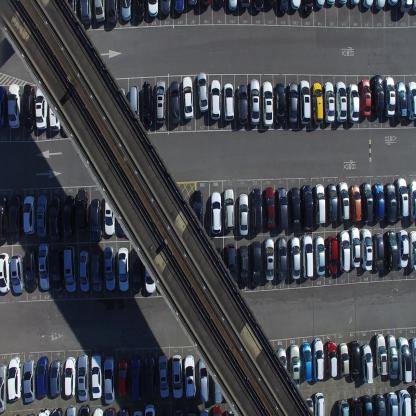car: (396, 336, 413, 384), (7, 356, 22, 402), (64, 245, 78, 293), (298, 79, 312, 126), (301, 233, 315, 279), (48, 84, 61, 133), (22, 84, 35, 133), (394, 176, 409, 218), (38, 243, 51, 291), (9, 194, 23, 238), (7, 83, 20, 130), (49, 195, 62, 242), (385, 333, 398, 380), (374, 332, 388, 375), (144, 244, 156, 294), (117, 246, 130, 292), (24, 248, 38, 290), (103, 355, 115, 404), (311, 81, 324, 126), (168, 80, 181, 125), (141, 80, 153, 128), (77, 354, 89, 402), (10, 254, 24, 295), (313, 182, 326, 226), (36, 194, 49, 238), (51, 248, 64, 292), (157, 354, 170, 398), (36, 354, 49, 398), (262, 80, 274, 127), (104, 244, 116, 291), (76, 186, 88, 233), (211, 356, 223, 403), (184, 353, 196, 400), (171, 353, 183, 400), (144, 354, 156, 401), (236, 83, 249, 126), (249, 78, 261, 124), (274, 81, 286, 127), (276, 236, 288, 282), (250, 241, 262, 287), (103, 191, 115, 237), (90, 353, 102, 399), (347, 82, 360, 124), (371, 74, 384, 116), (383, 181, 396, 223), (360, 228, 373, 270), (182, 75, 194, 120), (35, 85, 47, 130), (338, 229, 350, 274), (289, 235, 301, 280), (250, 188, 262, 233), (210, 190, 222, 235), (118, 192, 130, 237), (312, 337, 324, 382), (23, 359, 35, 404), (196, 71, 209, 112), (396, 228, 409, 269), (337, 181, 350, 222), (323, 80, 335, 124), (335, 79, 347, 123), (128, 85, 140, 129), (386, 228, 398, 272), (302, 183, 313, 231), (289, 186, 301, 230), (225, 243, 237, 287), (192, 189, 203, 237), (90, 198, 102, 242), (78, 249, 90, 293), (63, 194, 75, 238), (275, 346, 287, 390), (64, 356, 76, 400), (372, 182, 385, 222), (23, 195, 36, 235), (360, 344, 373, 384), (131, 356, 142, 403), (384, 75, 396, 118), (361, 180, 373, 223), (264, 186, 276, 229), (223, 187, 235, 230), (210, 245, 222, 288), (132, 246, 143, 292), (198, 357, 209, 403), (114, 86, 126, 128), (326, 234, 338, 276), (314, 235, 326, 276), (91, 251, 103, 292), (287, 81, 298, 125), (277, 187, 288, 231), (238, 244, 249, 288), (289, 344, 300, 388), (359, 77, 371, 117), (350, 183, 362, 223), (117, 358, 129, 398), (50, 358, 62, 398), (210, 78, 221, 121), (373, 231, 384, 273), (155, 78, 165, 124), (325, 340, 337, 378), (223, 81, 234, 122), (301, 341, 312, 382), (264, 237, 274, 282), (396, 80, 407, 120), (0, 252, 10, 296), (337, 342, 349, 378), (238, 193, 248, 236), (0, 363, 8, 415), (406, 80, 416, 121), (350, 226, 360, 267), (349, 340, 359, 381), (0, 197, 9, 242), (327, 181, 337, 221), (398, 389, 412, 415), (408, 336, 416, 380), (385, 391, 399, 416), (408, 180, 416, 223), (93, 0, 106, 25), (66, 0, 78, 27), (408, 230, 416, 270), (80, 0, 92, 26), (107, 0, 119, 25), (373, 394, 386, 416), (0, 85, 6, 130), (314, 392, 325, 416), (120, 0, 131, 23), (361, 394, 373, 415), (348, 397, 362, 415), (133, 0, 145, 20), (159, 0, 171, 19), (147, 0, 159, 19), (302, 396, 314, 415), (337, 398, 349, 416), (276, 0, 290, 15), (399, 0, 412, 16), (251, 0, 264, 15), (303, 0, 314, 17), (173, 0, 185, 15), (410, 383, 415, 416), (289, 0, 302, 12), (238, 0, 250, 12), (144, 403, 156, 415), (79, 403, 91, 415), (227, 0, 238, 12), (105, 406, 117, 416), (51, 405, 63, 415), (199, 0, 211, 9), (212, 405, 222, 415), (265, 0, 276, 9), (374, 0, 386, 8), (361, 0, 373, 8), (186, 0, 198, 8), (224, 408, 236, 416), (92, 408, 104, 416), (38, 408, 50, 416), (386, 0, 399, 7), (214, 0, 225, 8), (173, 408, 184, 416), (118, 407, 129, 415), (348, 0, 360, 7), (324, 0, 336, 7), (314, 0, 324, 8), (410, 0, 415, 15), (336, 0, 348, 6), (199, 408, 209, 415), (186, 409, 196, 415), (132, 409, 142, 415), (13, 411, 22, 415), (26, 412, 36, 415)
